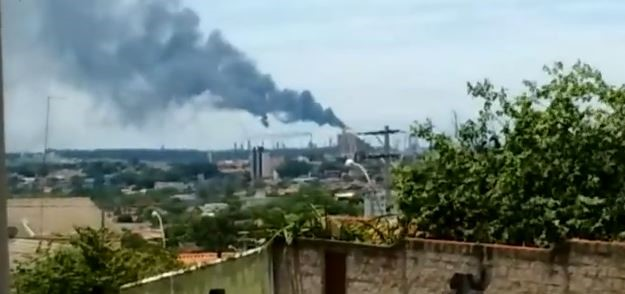工厂排烟: (0, 0, 350, 134)
